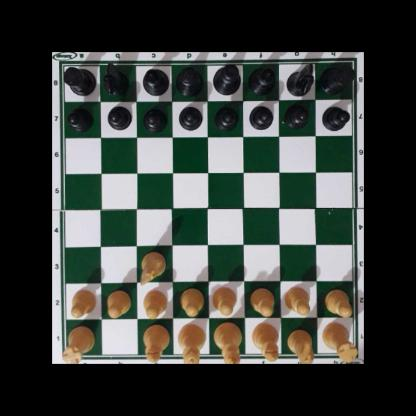black-bishop: (247, 64, 277, 93), (141, 66, 170, 94)
black-king: (211, 64, 241, 95)
black-knight: (287, 60, 312, 95), (103, 61, 127, 94)
black-pawn: (321, 104, 349, 131), (248, 103, 273, 129), (284, 102, 308, 128), (178, 103, 201, 130), (67, 106, 92, 130), (107, 104, 130, 130), (143, 105, 166, 131), (215, 105, 237, 130)
black-queen: (175, 65, 204, 94)
black-rook: (61, 64, 96, 95), (322, 60, 353, 93)
white-bishop: (143, 325, 170, 364), (251, 323, 278, 360)
white-king: (213, 322, 241, 362)
white-knight: (287, 327, 314, 362), (138, 250, 165, 283)
white-pawn: (69, 287, 96, 317), (284, 285, 311, 315), (325, 287, 352, 316), (211, 285, 237, 315), (179, 287, 204, 315), (250, 287, 275, 315), (142, 290, 167, 318), (105, 290, 130, 317)
white-queen: (177, 323, 204, 362)
white-rook: (323, 320, 356, 362), (63, 323, 93, 364)
